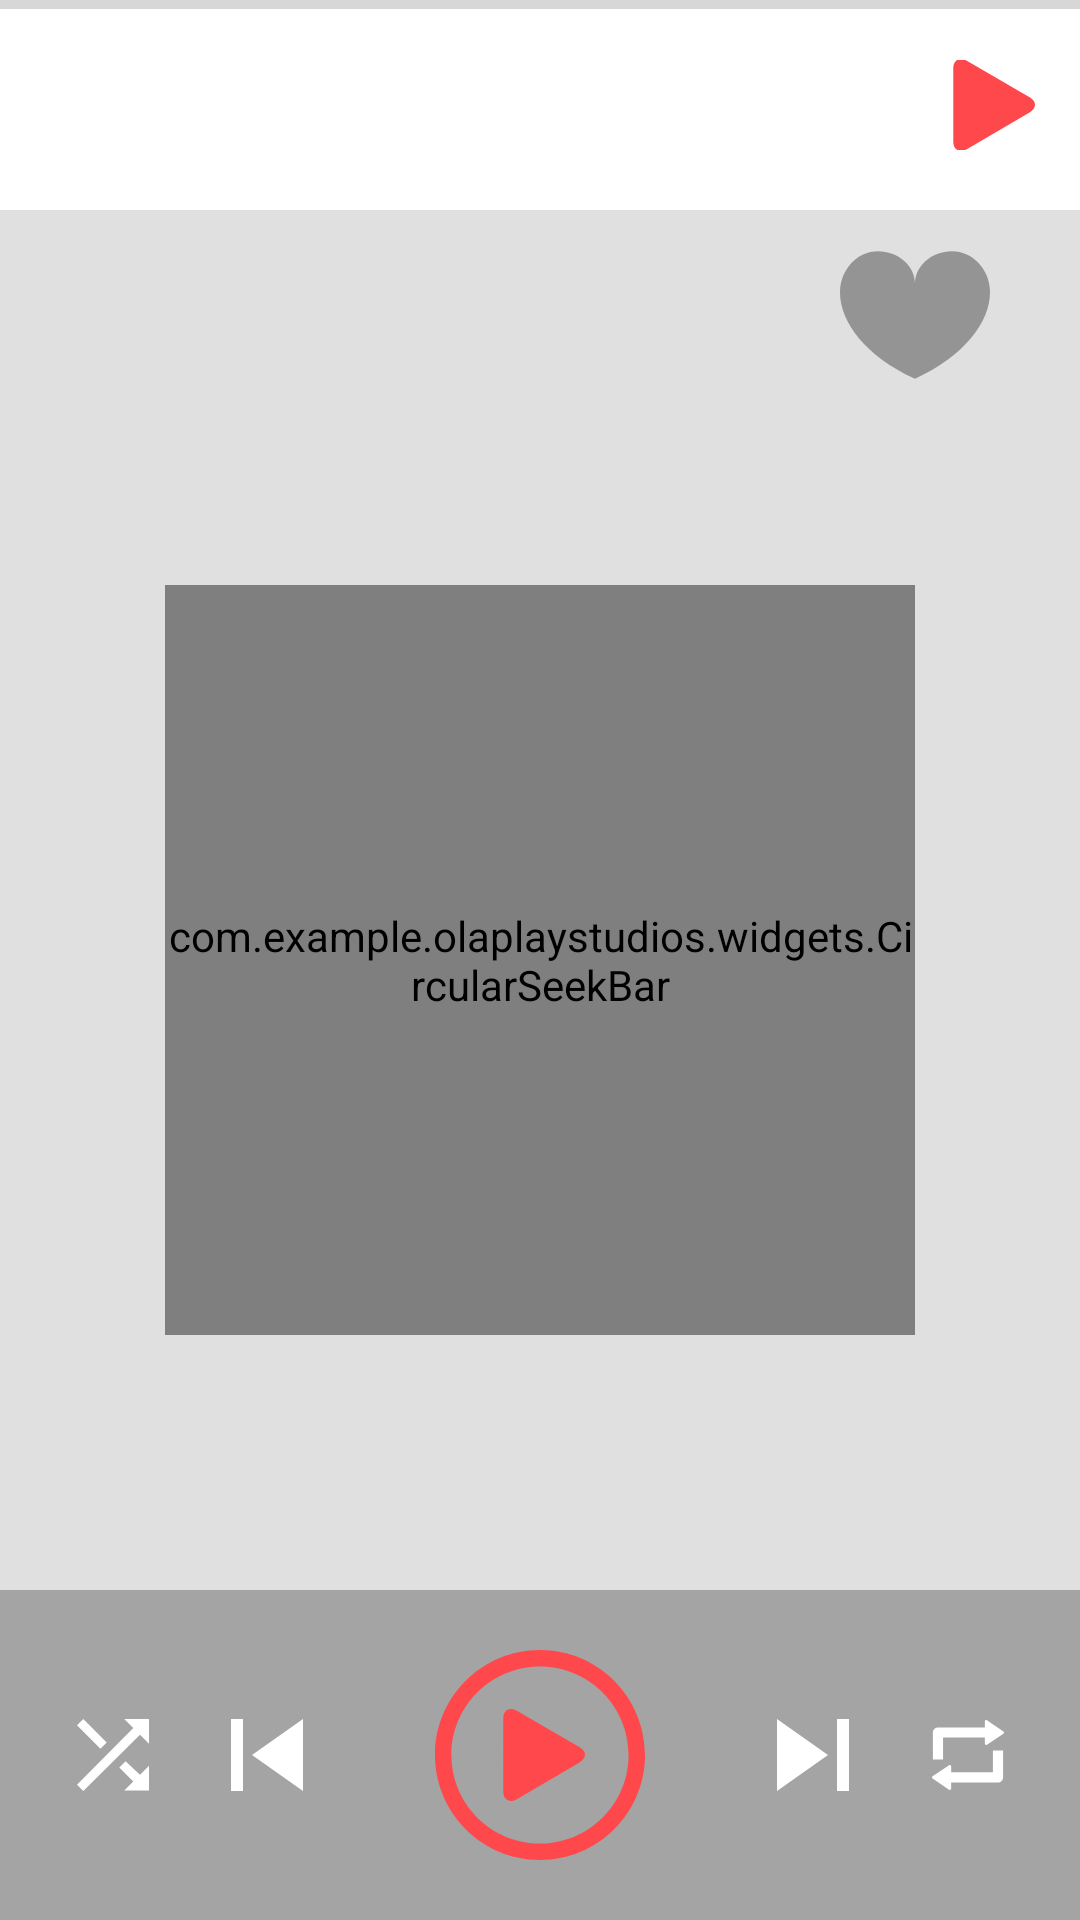

Icon bounding boxes for this 1080 × 1920 phone screenshot, format (x1, y1, x2, y2):
play next: (777, 1719, 849, 1791)
play previous: (231, 1719, 303, 1791)
play round: (953, 60, 1035, 150), (435, 1650, 645, 1860)
repeat: (932, 1720, 1004, 1790)
shuffle: (77, 1719, 149, 1791)
